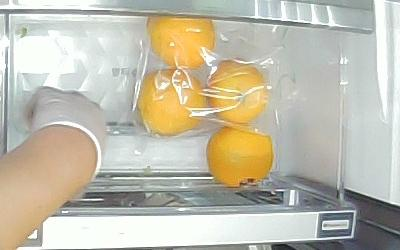orange: (207, 124, 274, 187)
orange_vinyl: (138, 67, 207, 136), (208, 59, 268, 124), (147, 14, 216, 69)
